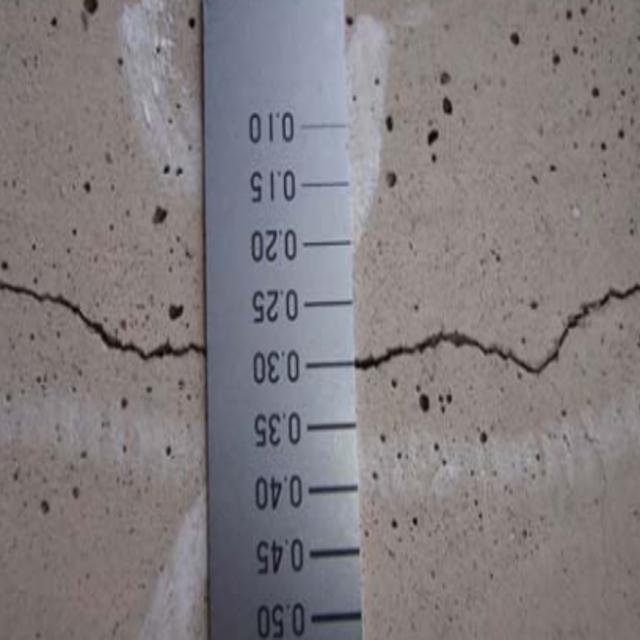crack: (359, 277, 637, 390), (3, 270, 203, 376)
